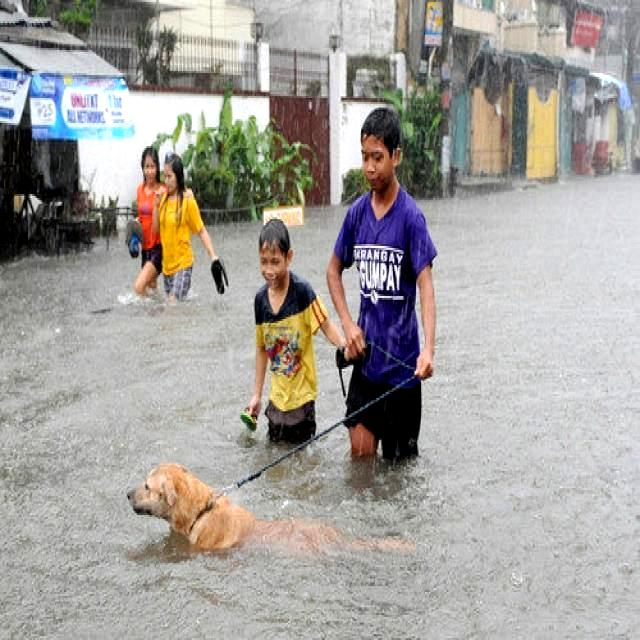civilian: (325, 106, 442, 488), (232, 211, 324, 462), (159, 149, 215, 312), (130, 141, 162, 292)
dog: (119, 455, 427, 582)
